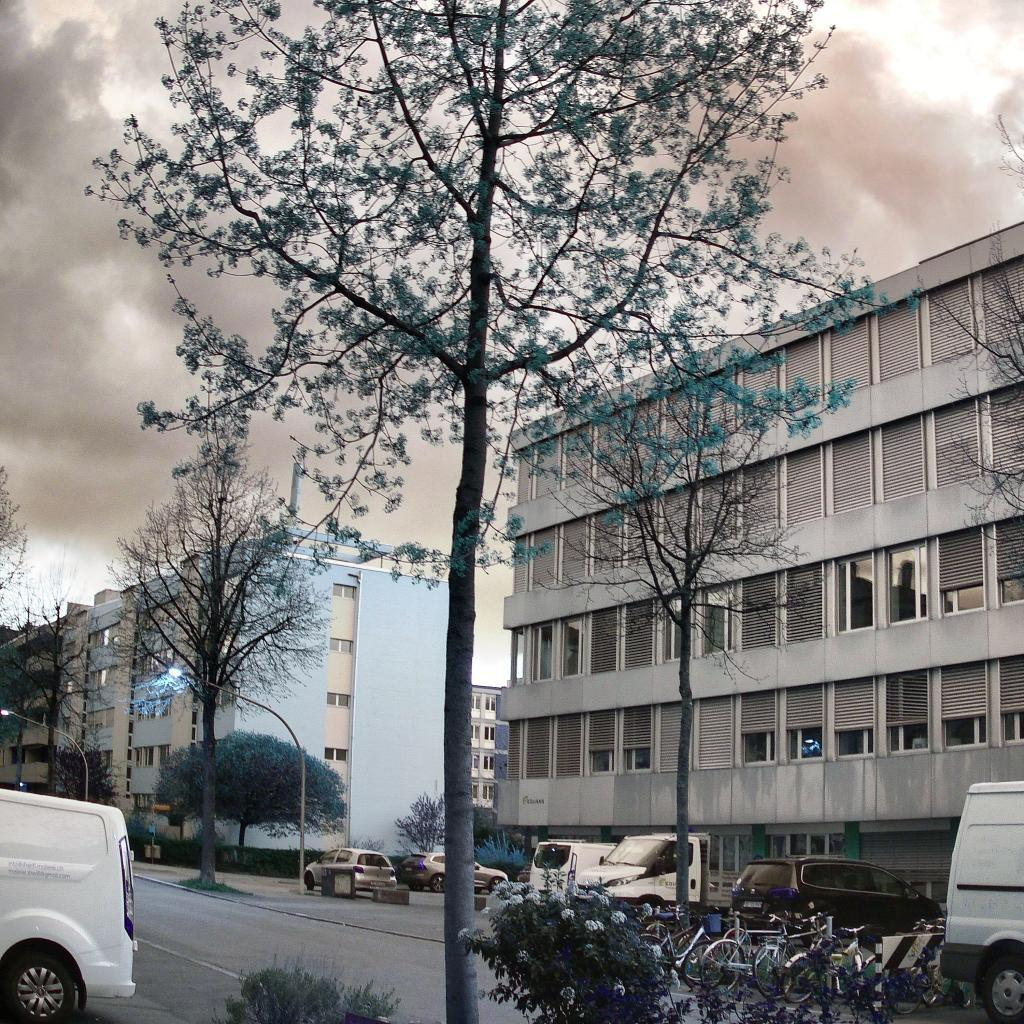car: (0, 787, 139, 1024), (940, 781, 1024, 1024), (732, 855, 944, 950), (575, 832, 741, 906), (529, 838, 619, 896), (399, 853, 509, 894), (305, 848, 397, 895)
facade: (467, 220, 1024, 860), (0, 462, 450, 855)
non-building-infrastructure: (634, 904, 970, 1015)
street: (74, 859, 530, 1024)
traffic-infrastructure: (167, 666, 306, 895), (0, 708, 89, 802), (144, 793, 161, 864), (20, 782, 28, 791)
vegetation: (0, 0, 889, 1024), (450, 835, 881, 1024), (903, 206, 1024, 609), (213, 962, 402, 1024)
window: (860, 828, 958, 903), (929, 395, 984, 489), (881, 536, 932, 628), (937, 526, 987, 619), (939, 660, 989, 753), (880, 412, 928, 503), (884, 667, 931, 756), (980, 255, 1024, 349), (927, 277, 974, 365), (831, 550, 879, 636), (876, 294, 922, 383), (830, 428, 875, 516), (832, 676, 877, 762), (784, 444, 828, 526), (829, 314, 871, 398), (785, 559, 827, 643), (784, 683, 827, 764), (987, 382, 1024, 474), (782, 334, 823, 414), (741, 571, 780, 650), (696, 694, 736, 771), (741, 456, 779, 537), (740, 690, 779, 767), (700, 473, 739, 547), (993, 517, 1024, 608), (657, 700, 695, 773), (703, 365, 737, 445), (662, 379, 696, 459), (701, 581, 736, 658), (743, 349, 777, 428), (662, 485, 698, 558), (998, 654, 1024, 748), (625, 496, 659, 567), (619, 706, 654, 774), (590, 506, 623, 576), (628, 394, 659, 468), (623, 599, 654, 670), (583, 710, 616, 776), (559, 516, 589, 585), (596, 408, 625, 479), (552, 712, 583, 778), (563, 422, 593, 489), (663, 593, 692, 662), (529, 525, 558, 590), (590, 607, 617, 675), (533, 433, 561, 498), (523, 716, 552, 778), (767, 833, 845, 856), (709, 835, 752, 871), (561, 614, 583, 677), (532, 622, 552, 682), (516, 446, 533, 505), (507, 719, 522, 779), (146, 648, 174, 679), (513, 535, 527, 594), (137, 698, 171, 720), (136, 746, 169, 767), (513, 627, 524, 684), (329, 638, 354, 655), (333, 584, 356, 600), (327, 693, 351, 708), (325, 748, 348, 761), (134, 794, 150, 811), (471, 693, 482, 712), (97, 669, 107, 688), (485, 694, 496, 711), (483, 785, 494, 800), (484, 755, 494, 770), (485, 727, 495, 741), (471, 725, 480, 740), (103, 628, 110, 646), (471, 754, 479, 769), (472, 784, 479, 800), (199, 584, 205, 601), (198, 606, 204, 621), (196, 660, 201, 677), (191, 712, 197, 726), (193, 691, 199, 704), (66, 680, 72, 692), (191, 727, 196, 741), (197, 624, 202, 637), (127, 766, 132, 779), (129, 703, 134, 715), (127, 749, 132, 760), (128, 722, 133, 733), (132, 659, 137, 670), (132, 674, 136, 687), (128, 736, 132, 746), (131, 690, 134, 701), (126, 795, 130, 798)
